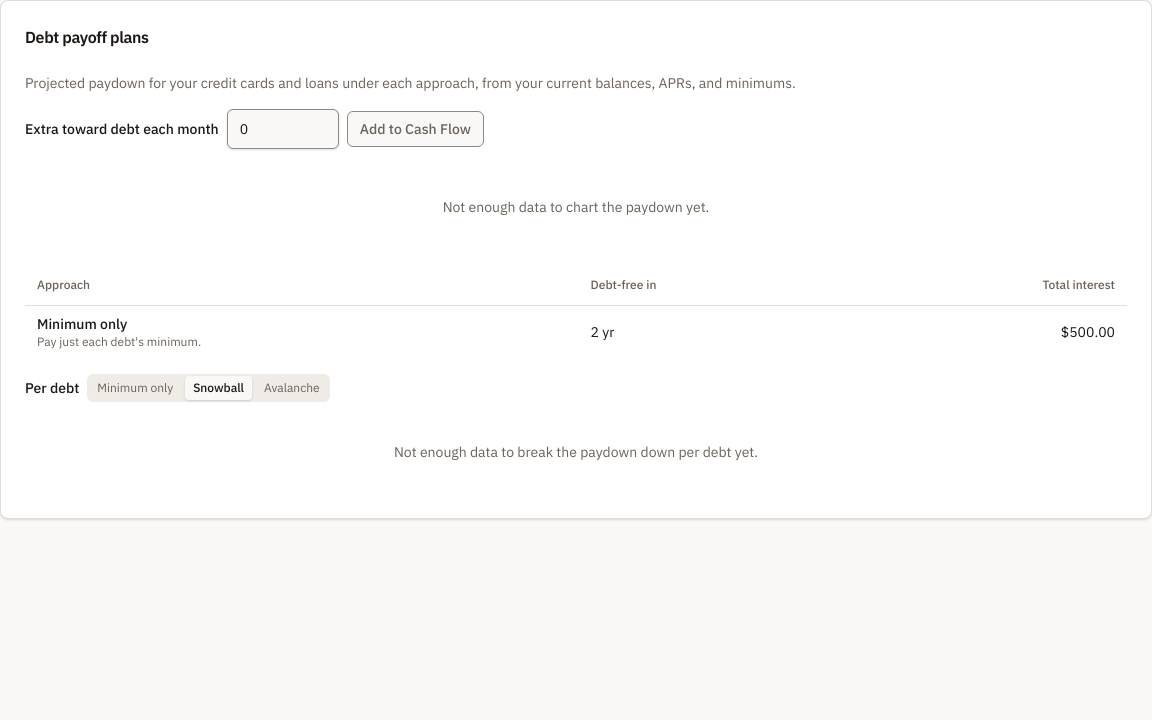
the result of adding the scenario is announced (6wk.26) › the same region keeps its node, so the new text is what a screen reader hears
Replace the text in the field labelled "Extra toward debt each month" with "300": (283, 129) [227,109,339,149]
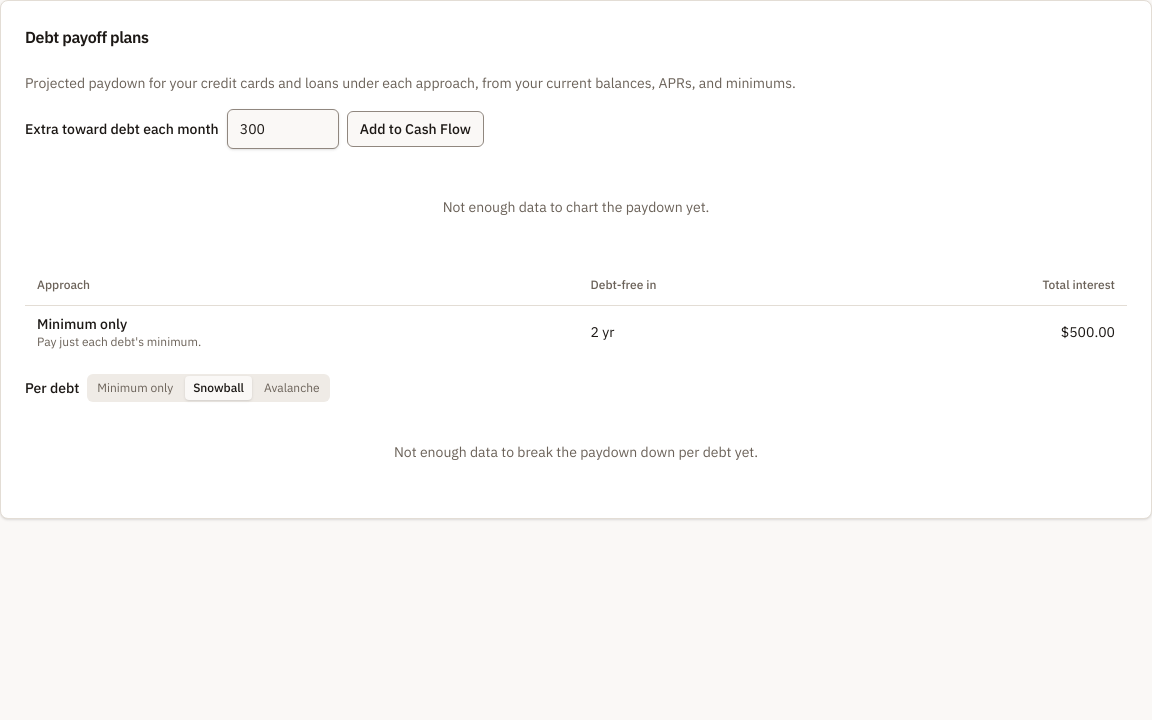
Click the button "Add to Cash Flow": click(415, 129) [347,111,484,147]
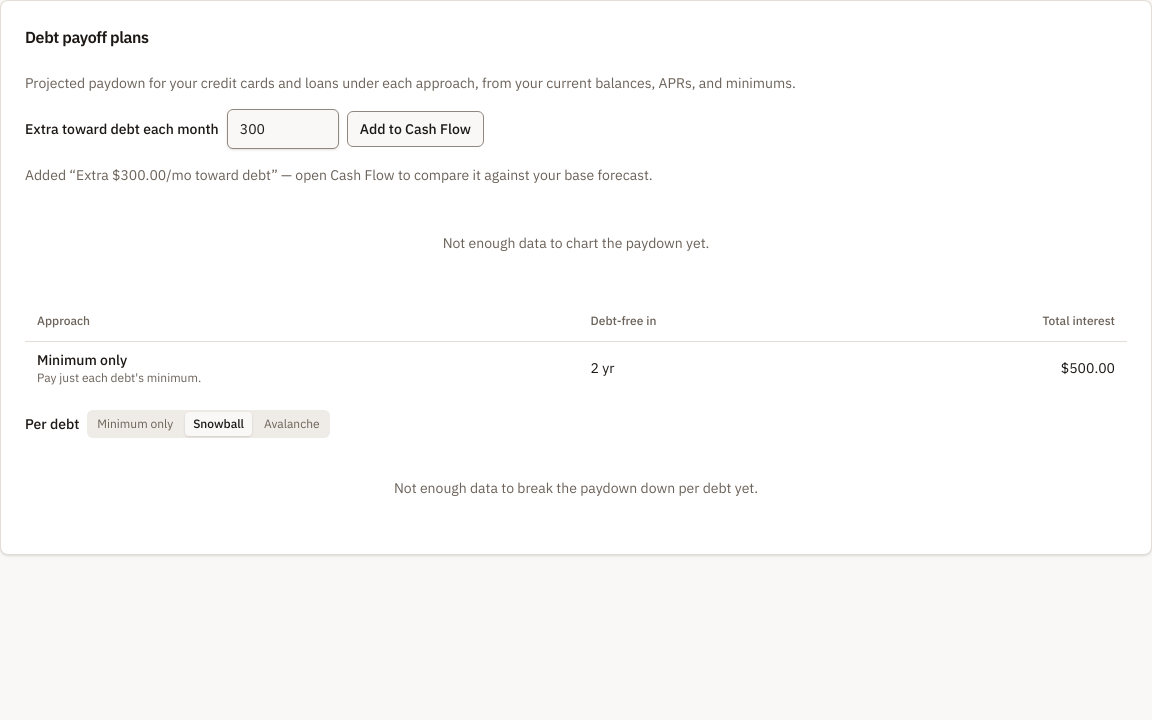
Expected: the message shows "Added “Extra $300.00/mo toward debt” — open Cash Flow to compare it against your base forecast.", [25,166,653,184]
